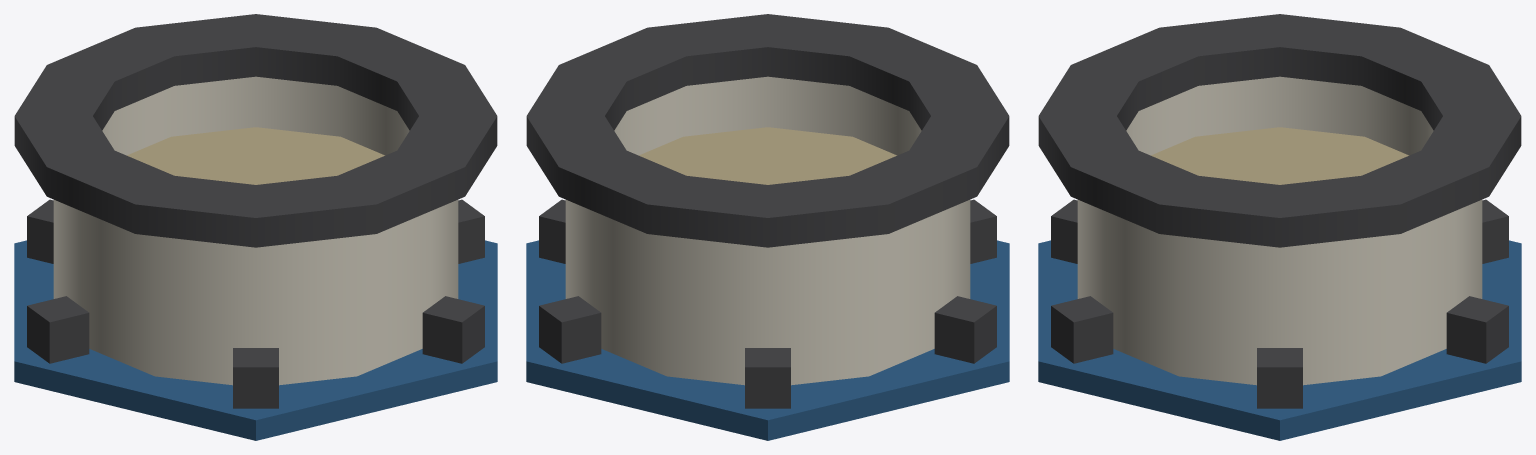
Rendered from collar_frame.obj.
3 views of the same model, side by side, from view 1: azimuth 30°, elevation 25°; view 2: azimuth 150°, elevation 25°; view 3: azimuth 270°, elevation 25° (orthographic).
Visible parts, largest first — view 1: collar_frame; view 2: collar_frame; view 3: collar_frame.
Part boxes in pixels (box(x1,y1,x2,y2)): collar_frame: box(14, 14, 497, 440); collar_frame: box(526, 14, 1009, 440); collar_frame: box(1038, 14, 1521, 440).
Bounding box in the file's own units: 1.71 × 0.7 × 1.48.
